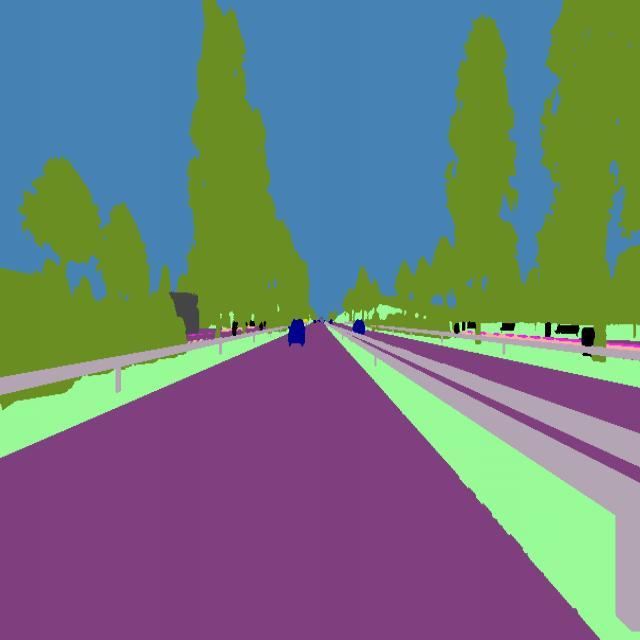safe: (286, 314, 308, 349), (349, 314, 369, 339)
